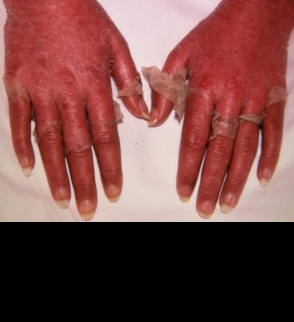SJS-TEN: (129, 0, 294, 172), (0, 34, 151, 165)
